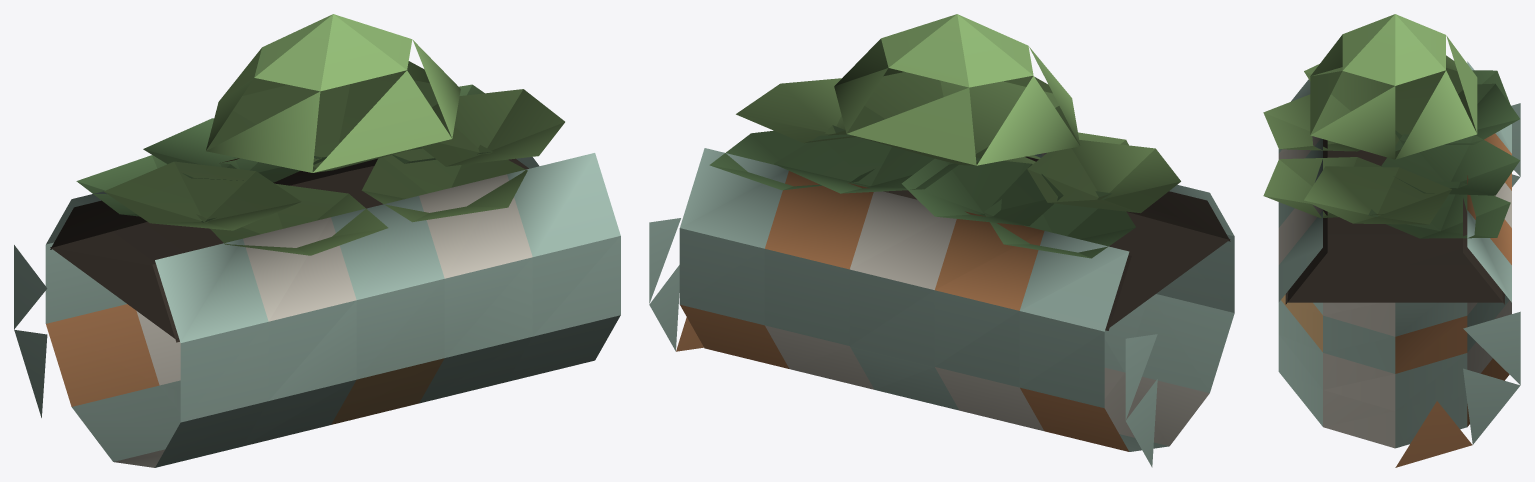
File: drum.lod.glb
The picture shows the model from 3 angles, left to right: view 1: azimuth 30°, elevation 25°; view 2: azimuth 150°, elevation 25°; view 3: azimuth 270°, elevation 25°; orthographic projection. The views are drawn at different scales.
Visible parts, largest first — view 1: drum; view 2: drum; view 3: drum.
Boxes of the visible parts, bbox=[...] form: drum: bbox=[14, 14, 620, 467]; drum: bbox=[649, 14, 1234, 467]; drum: bbox=[1263, 14, 1520, 467].
Size of the model in its own units: 0.925 by 0.7231 by 0.4822.
